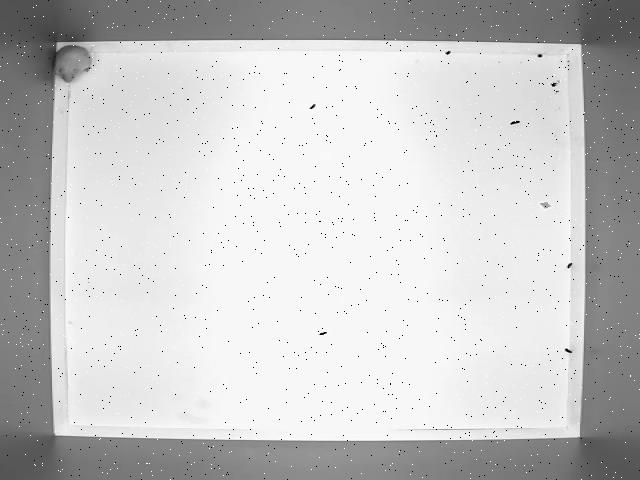Tikus: (46, 38, 106, 88)
